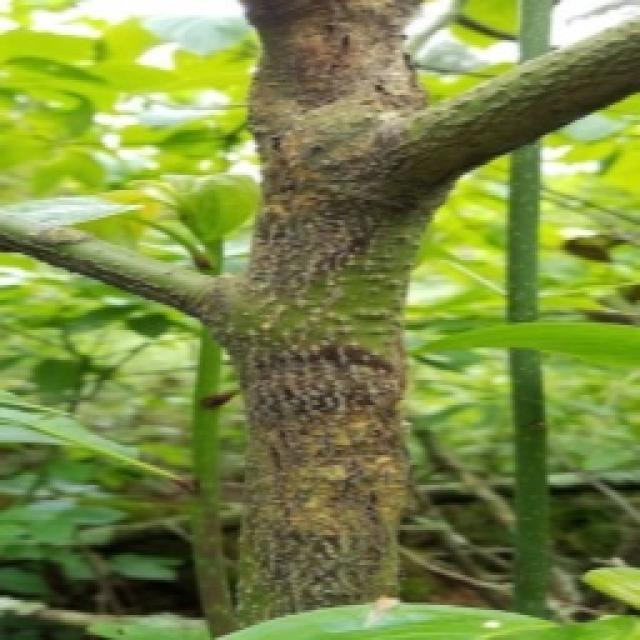Golden_canker: (141, 11, 536, 617)
